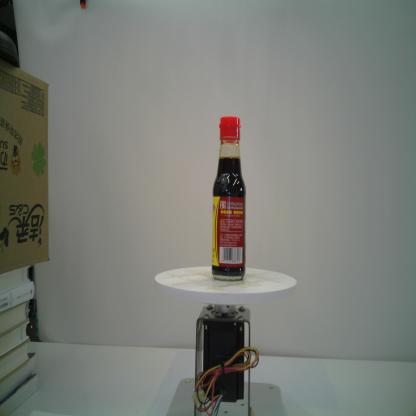Seasoner: (210, 115, 247, 282)
